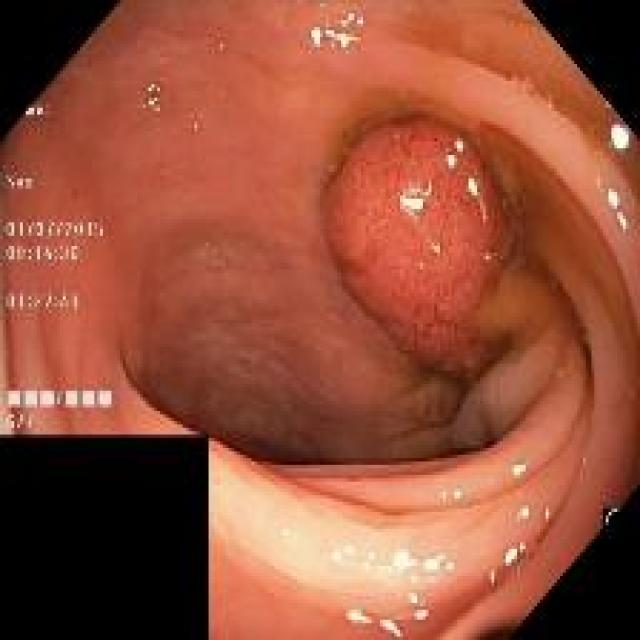Polyps: (325, 116, 514, 377)
